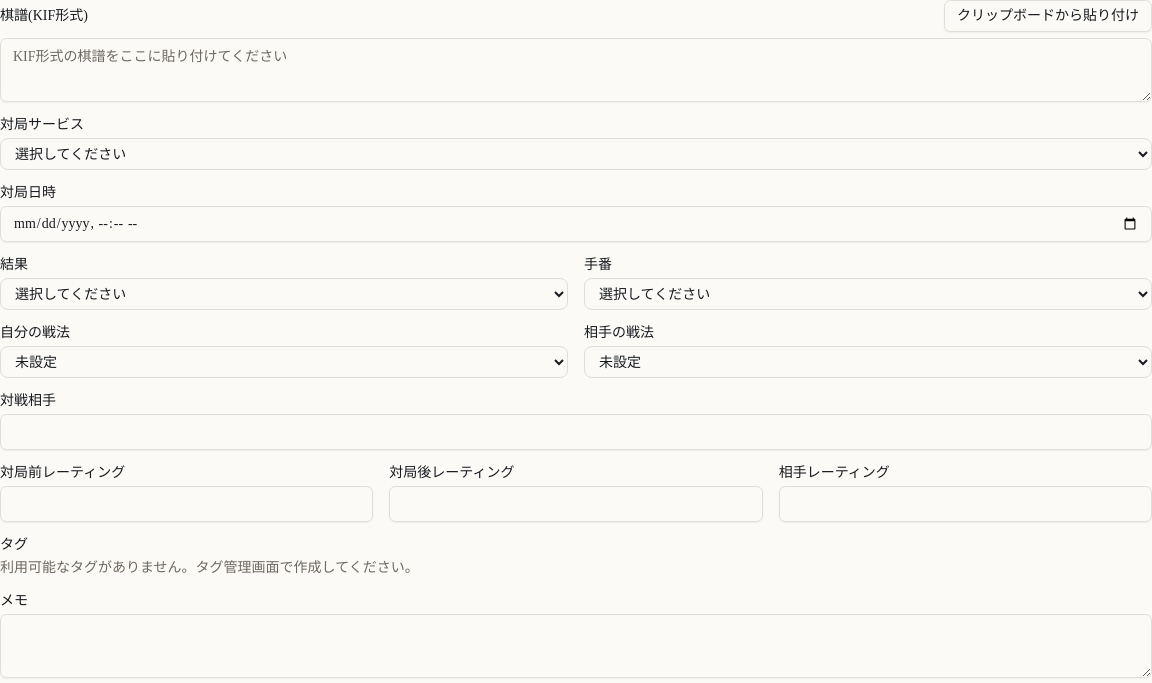
Test case: GameForm › 段位制プラットフォーム選択時のみ段位フィールドを表示し、ラベルが%に変わる
Check: the field labelled "対局前段位" is not shown
Check: the number field labelled "対局前レーティング" is shown, box left=0, top=486, right=373, bottom=522
Select "将棋ウォーズ" in the dropdown labelled "対局サービス" at (576, 154), box left=0, top=138, right=1151, bottom=170
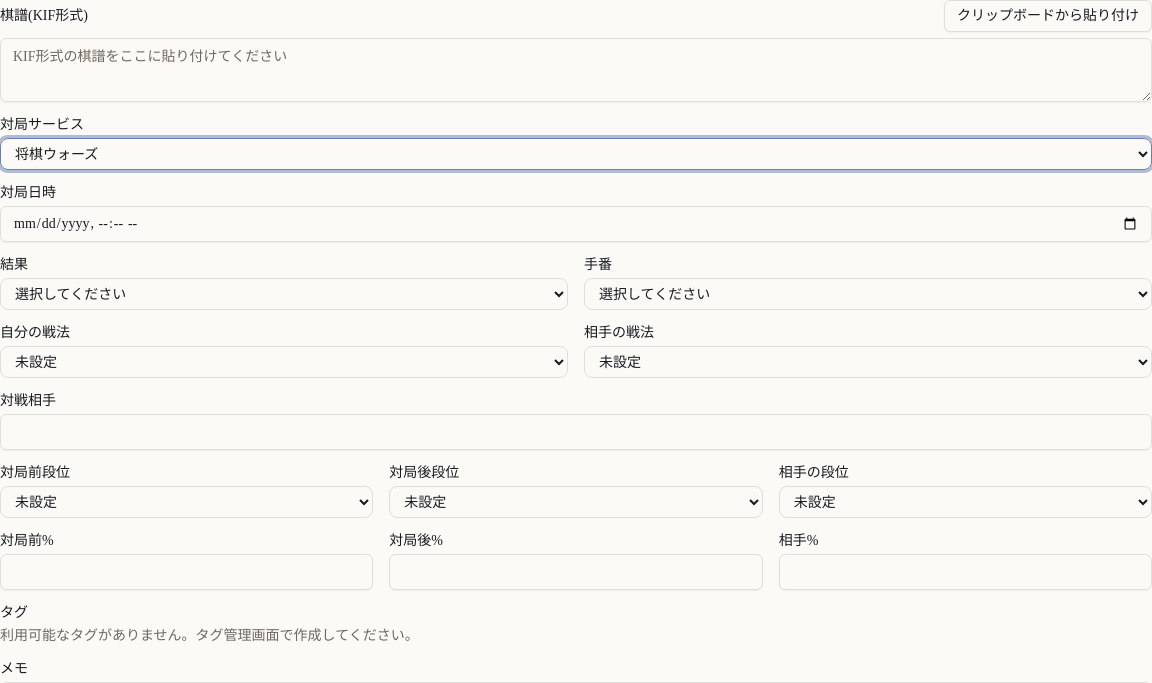
Check: the dropdown labelled "対局前段位" is shown, box left=0, top=486, right=373, bottom=518
Check: the dropdown labelled "対局後段位" is shown, box left=389, top=486, right=763, bottom=518
Check: the dropdown labelled "相手の段位" is shown, box left=779, top=486, right=1151, bottom=518
Select "将棋クエスト" in the dropdown labelled "対局サービス" at (576, 154), box left=0, top=138, right=1151, bottom=170
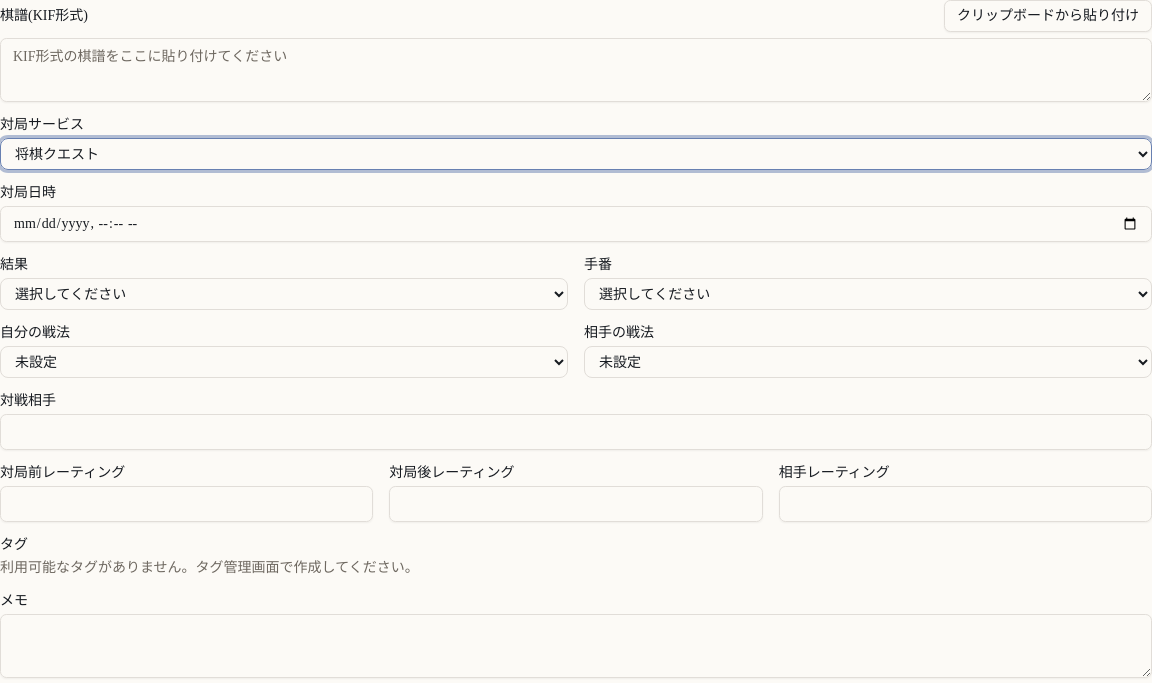
Check: the number field labelled "対局前レーティング" is shown, box left=0, top=486, right=373, bottom=522
Check: the label labelled "対局前段位" is gone
